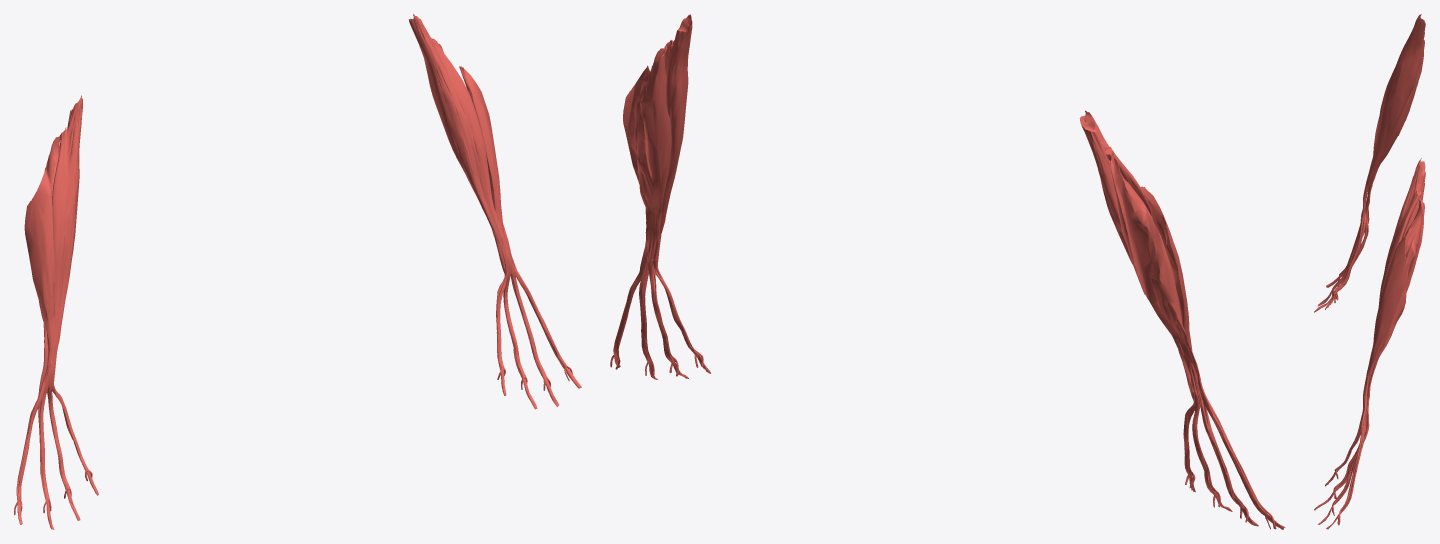
Rendered from supplement-wrist-hand-finger-flexors.glb.
3 views of the same model, side by side, from view 1: azimuth 30°, elevation 25°; view 2: azimuth 150°, elevation 25°; view 3: azimuth 270°, elevation 25° (orthographic). The views are drawn at different scales.
Parts seen in each view (by area): view 1: wrist-hand:finger-flexors:isa:FJ1475M, wrist-hand:finger-flexors:isa:FJ1475, wrist-hand:finger-flexors:isa:FJ1499, wrist-hand:finger-flexors:isa:FJ1497, wrist-hand:finger-flexors:isa:FJ1499M, wrist-hand:finger-flexors:isa:FJ1497M; view 2: wrist-hand:finger-flexors:isa:FJ1497, wrist-hand:finger-flexors:isa:FJ1497M, wrist-hand:finger-flexors:isa:FJ1475M, wrist-hand:finger-flexors:isa:FJ1475, wrist-hand:finger-flexors:isa:FJ1499, wrist-hand:finger-flexors:isa:FJ1499M; view 3: wrist-hand:finger-flexors:isa:FJ1475, wrist-hand:finger-flexors:isa:FJ1475M, wrist-hand:finger-flexors:isa:FJ1497M, wrist-hand:finger-flexors:isa:FJ1499M, wrist-hand:finger-flexors:isa:FJ1497.
Part boxes in pixels (x1=…): wrist-hand:finger-flexors:isa:FJ1475M: x1=409, y1=14, x2=573, y2=390; wrist-hand:finger-flexors:isa:FJ1475: x1=14, y1=95, x2=92, y2=515; wrist-hand:finger-flexors:isa:FJ1499: x1=24, y1=167, x2=54, y2=361; wrist-hand:finger-flexors:isa:FJ1497: x1=16, y1=134, x2=98, y2=529; wrist-hand:finger-flexors:isa:FJ1499M: x1=459, y1=66, x2=504, y2=236; wrist-hand:finger-flexors:isa:FJ1497M: x1=439, y1=44, x2=581, y2=409; wrist-hand:finger-flexors:isa:FJ1497: x1=1110, y1=154, x2=1285, y2=529; wrist-hand:finger-flexors:isa:FJ1497M: x1=613, y1=45, x2=710, y2=379; wrist-hand:finger-flexors:isa:FJ1475M: x1=610, y1=14, x2=703, y2=376; wrist-hand:finger-flexors:isa:FJ1475: x1=1079, y1=110, x2=1276, y2=529; wrist-hand:finger-flexors:isa:FJ1499: x1=1139, y1=186, x2=1192, y2=350; wrist-hand:finger-flexors:isa:FJ1499M: x1=623, y1=65, x2=650, y2=183; wrist-hand:finger-flexors:isa:FJ1475: x1=1332, y1=14, x2=1425, y2=302; wrist-hand:finger-flexors:isa:FJ1475M: x1=1332, y1=158, x2=1425, y2=525; wrist-hand:finger-flexors:isa:FJ1497M: x1=1314, y1=197, x2=1424, y2=529; wrist-hand:finger-flexors:isa:FJ1499M: x1=1367, y1=227, x2=1412, y2=388; wrist-hand:finger-flexors:isa:FJ1497: x1=1314, y1=40, x2=1424, y2=312.
Size of the model in its own units: 0.6139 by 0.3875 by 0.1193.
